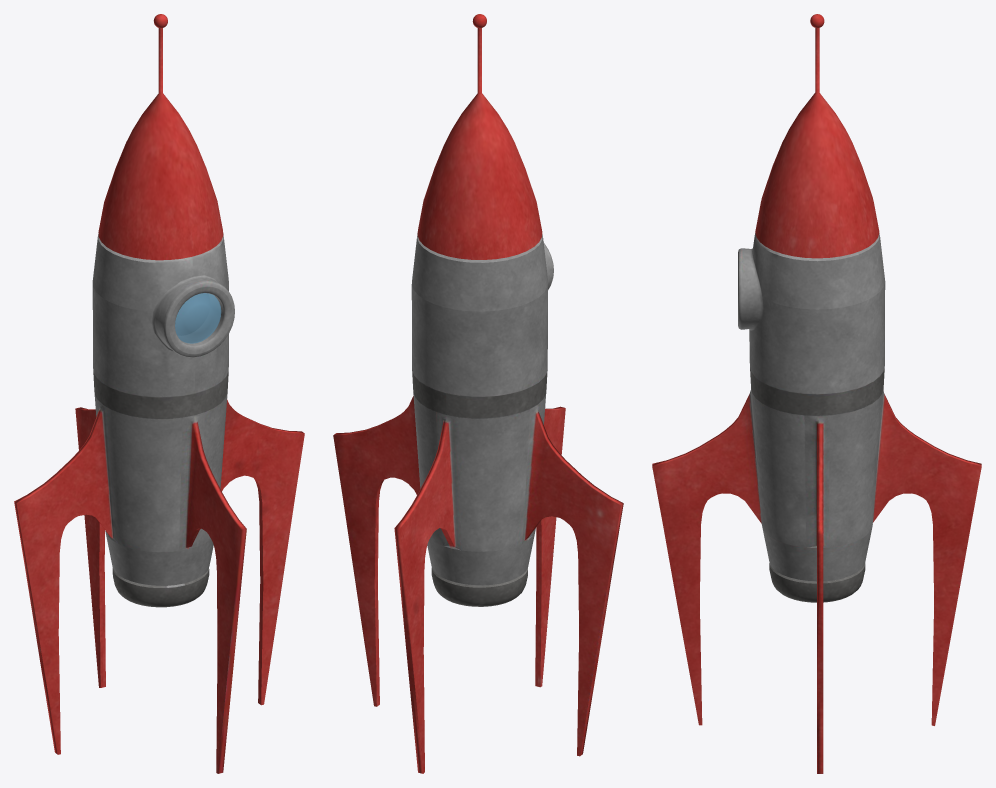
The model's file is rocket.glb.
3 views of the same model, side by side, from view 1: azimuth 30°, elevation 25°; view 2: azimuth 150°, elevation 25°; view 3: azimuth 270°, elevation 25° (orthographic).
Visible parts, largest first — view 1: SpaceShip; view 2: SpaceShip; view 3: SpaceShip.
Part boxes in pixels (x1,y1,x2,y2): SpaceShip: (14,14,304,773); SpaceShip: (333,14,623,773); SpaceShip: (652,14,981,773).
Size of the model in its own units: 0.0139 by 0.033 by 0.0139.
1 material, 1 textured.
